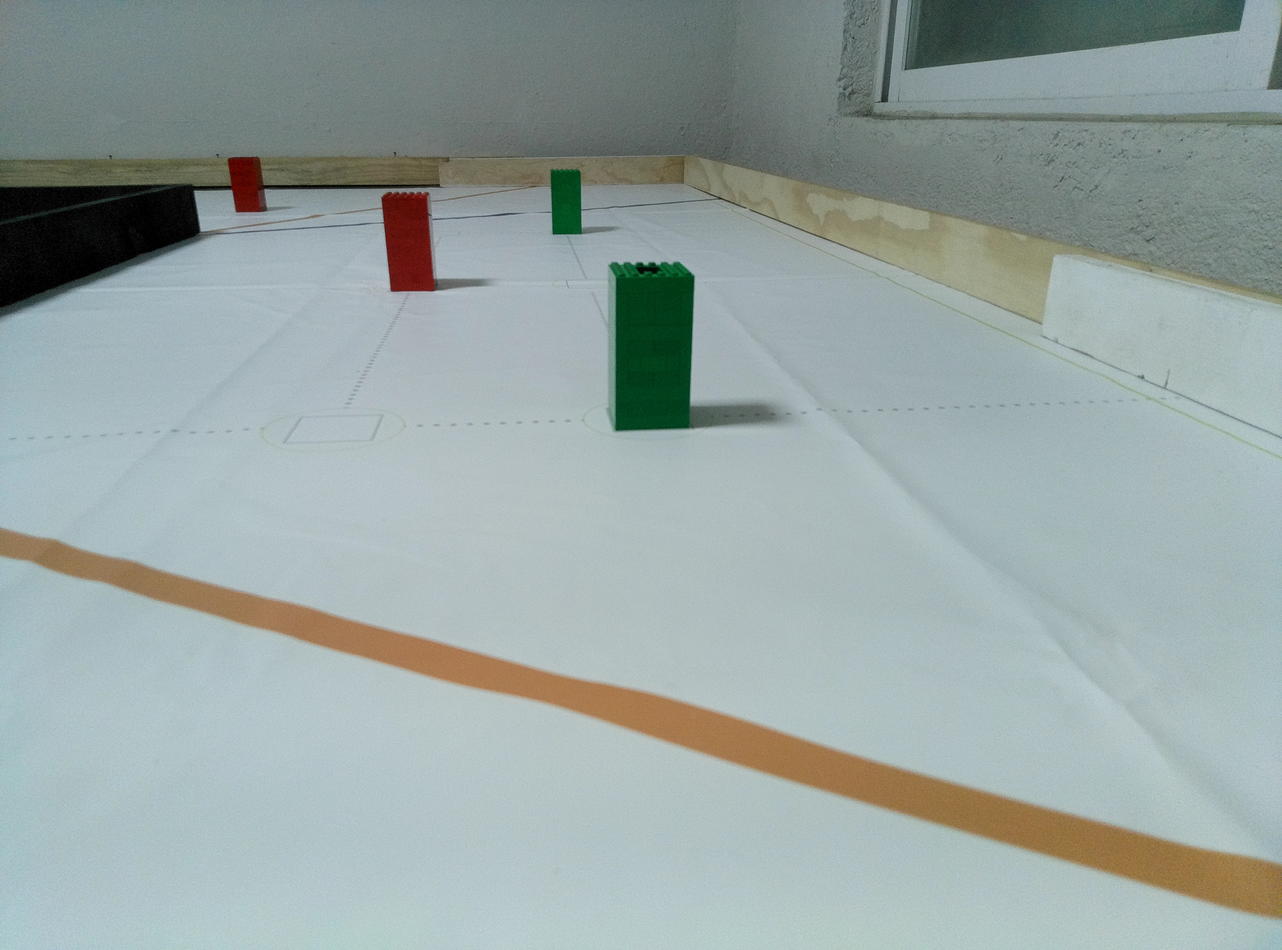greenbox: (602, 259, 696, 434), (548, 167, 584, 236)
redbox: (380, 191, 439, 294), (227, 156, 269, 214)
